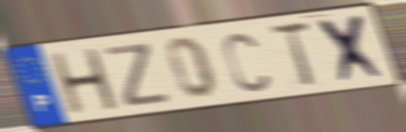0: (165, 35, 221, 103)
C: (220, 30, 272, 95)
H: (47, 45, 123, 117)
T: (265, 19, 319, 90)
X: (313, 12, 392, 86)
Z: (101, 40, 174, 110)
